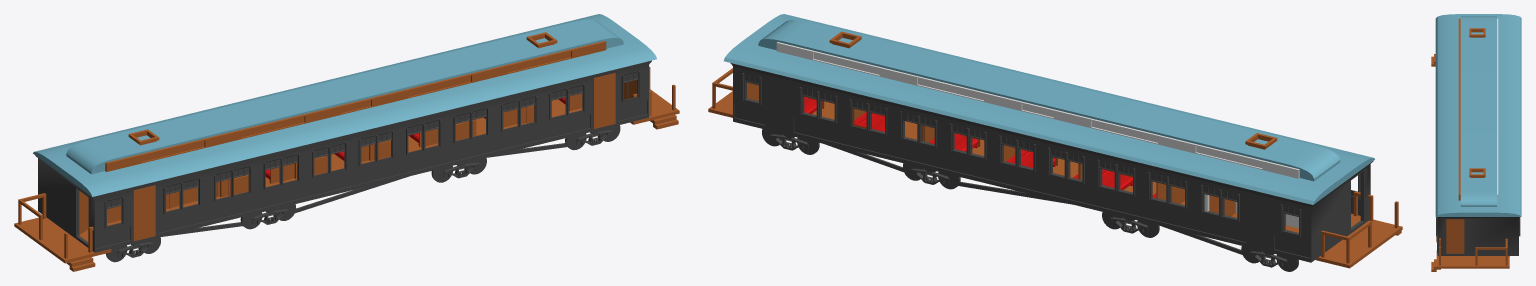
The model's file is train2.FBX.
3 renders of one model, left to right at view 1: azimuth 30°, elevation 25°; view 2: azimuth 150°, elevation 25°; view 3: azimuth 270°, elevation 25°, orthographic. The views are drawn at different scales.
Visible parts, largest first — view 1: Train 02 Roof, Wall, Train 02, Roof Pnl 01, Train 02 Wheels, Train 02 Exit Platform, Train 02 Door (×2), Train 02 Roof Vents; view 2: Train 02, Train 02 Roof, Roof Pnl 02, Train 02 Wheels, Train 02 Exit Platform, Train 02 Roof Vents; view 3: Train 02 Roof, Train 02, Train 02 Exit Platform, Train 02 Door, Roof Pnl 01, Roof Pnl 02, Train 02 Roof Vents.
Part boxes in pixels (x1,y1,x2,y2): Train 02 Roof: (33, 14, 656, 196); Wall: (92, 60, 651, 252); Train 02: (35, 82, 628, 252); Roof Pnl 01: (105, 41, 606, 171); Train 02 Wheels: (106, 125, 620, 262); Train 02 Exit Platform: (14, 66, 679, 271); Train 02 Door (×2): (133, 73, 615, 241); Train 02 Roof Vents: (128, 32, 557, 145); Train 02: (730, 63, 1373, 262); Train 02 Roof: (723, 14, 1374, 204); Roof Pnl 02: (776, 42, 1299, 178); Train 02 Wheels: (762, 129, 1298, 271); Train 02 Exit Platform: (708, 68, 1402, 268); Train 02 Roof Vents: (829, 31, 1277, 149); Train 02 Roof: (1435, 14, 1521, 216); Train 02: (1437, 217, 1520, 255); Train 02 Exit Platform: (1431, 54, 1509, 271); Train 02 Door: (1446, 219, 1464, 253); Roof Pnl 01: (1458, 18, 1460, 200); Roof Pnl 02: (1497, 18, 1498, 200); Train 02 Roof Vents: (1469, 28, 1485, 177).
Size of the model in its own units: 520 by 81.25 by 91.96.
